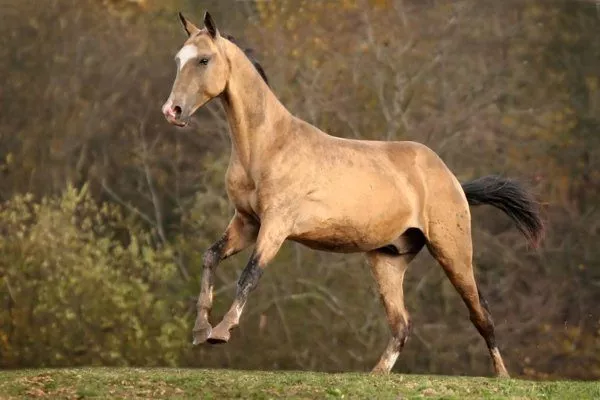horse: (163, 8, 530, 359)
